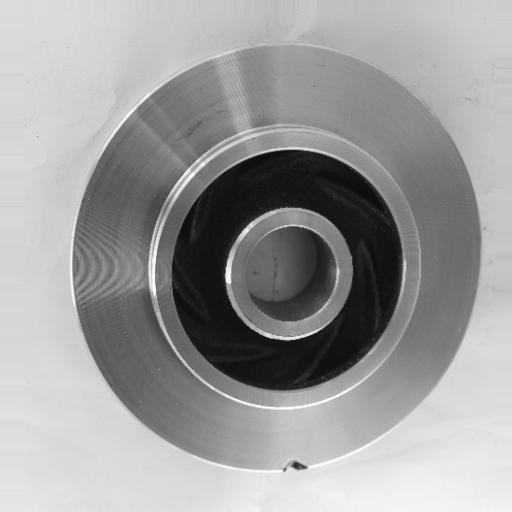crack: (277, 452, 317, 484)
unpolished_casting: (70, 41, 483, 471)
